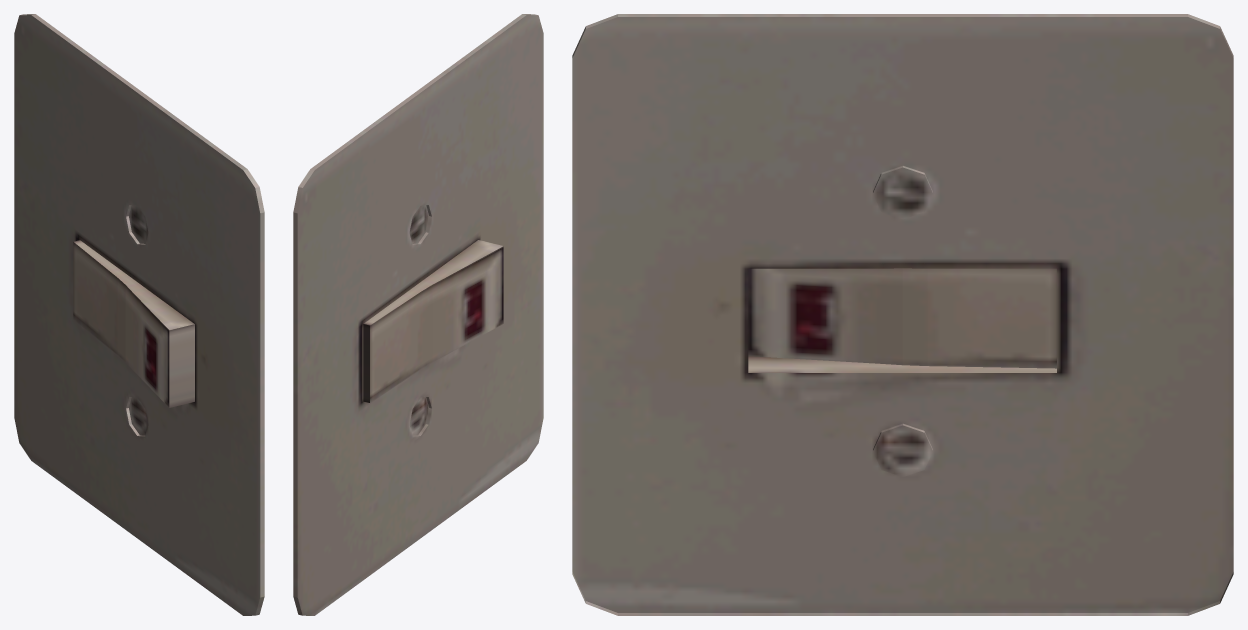
File: doorbell.fbx
3 views of the same model, side by side, from view 1: azimuth 30°, elevation 25°; view 2: azimuth 150°, elevation 25°; view 3: azimuth 270°, elevation 25° (orthographic). The views are drawn at different scales.
Parts seen in each view (by area): view 1: doorbell_pH10; view 2: doorbell_pH10; view 3: doorbell_pH10.
Boxes of the visible parts, box(x1,y1,x2,y2) form: doorbell_pH10: box(14, 14, 264, 615); doorbell_pH10: box(293, 14, 543, 615); doorbell_pH10: box(572, 14, 1233, 615).
Bounding box in the file's own units: 0.00681 × 0.097 × 0.097.
